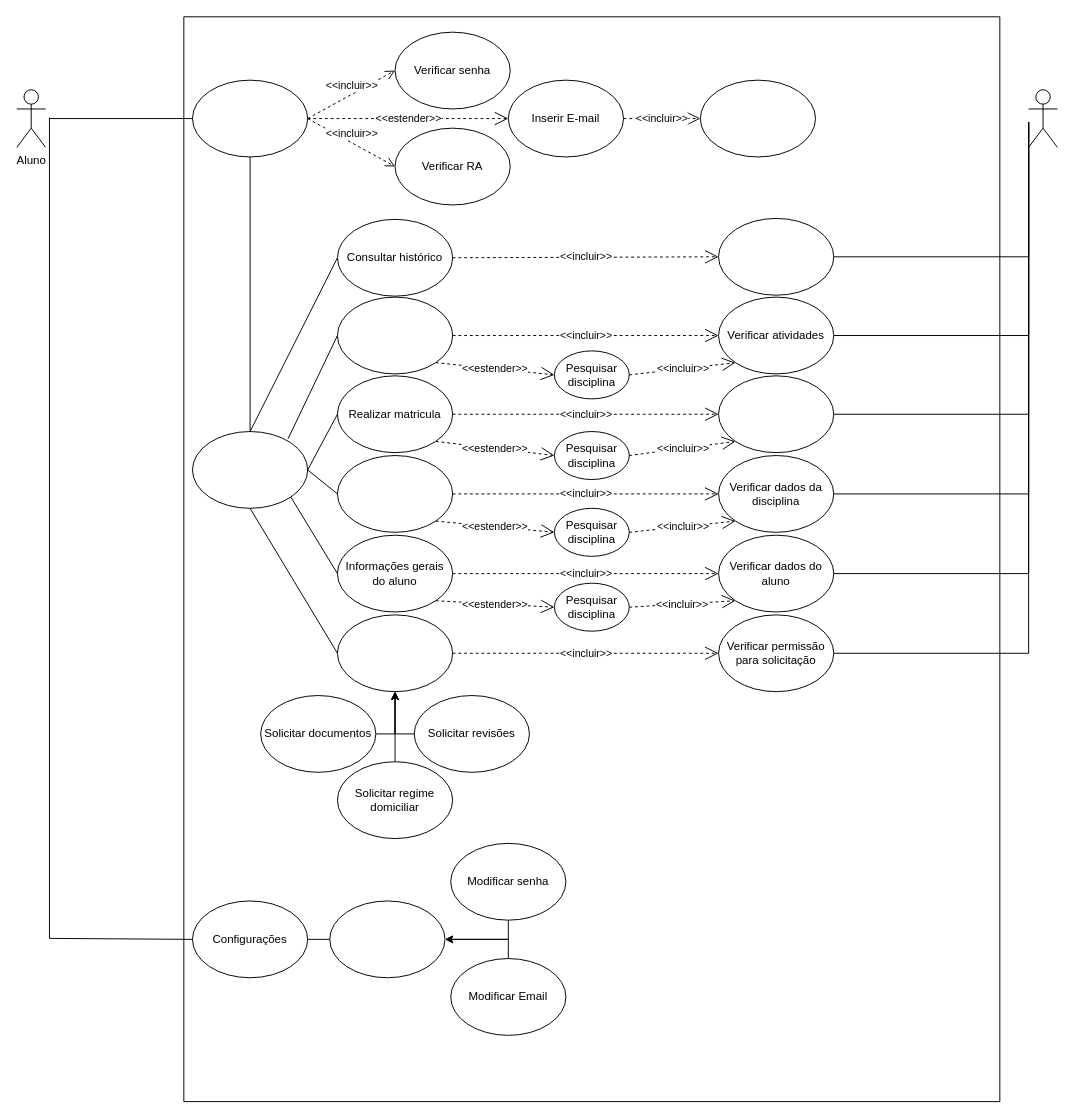
The diagram is 1087 pixels wide and 1118 high, and some of its shapes have lost their labels. The centre of each missing label's shape, as x and y in pixels:
"Cadastrar E-mail" belongs at (x=757, y=118).
"Consultar agenda" belongs at (x=394, y=335).
"Faculdade" belongs at (x=1042, y=118).
"Fazer login" belongs at (x=250, y=118).
"Menu principal" belongs at (x=250, y=469).
"Plano de ensino" belongs at (x=394, y=493).
"Segurança" belongs at (x=387, y=939).
"Solicitar" belongs at (x=394, y=653).
"Verificar dados de histórico das notas" belongs at (x=776, y=256).
"Verificar disponibilidade da disciplina" belongs at (x=776, y=414).
